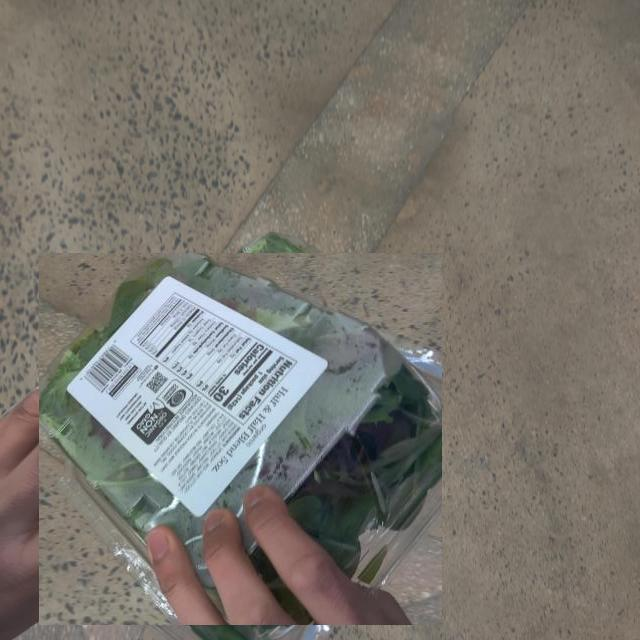Salad: (39, 252, 442, 625)
